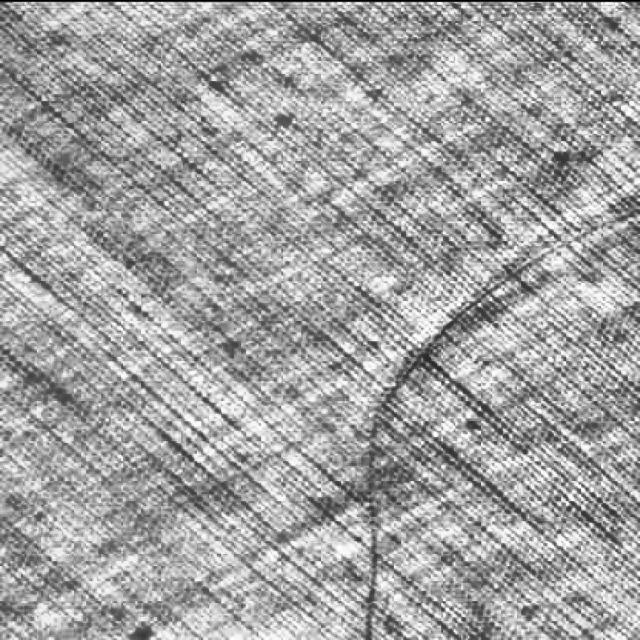thread_error: (347, 177, 639, 640)
